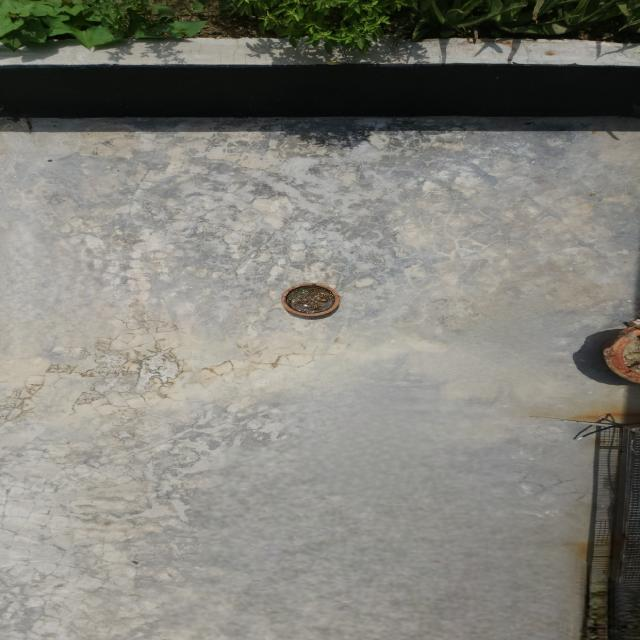Breeding Place: (0, 0, 640, 121), (587, 306, 640, 392), (264, 277, 356, 325)
